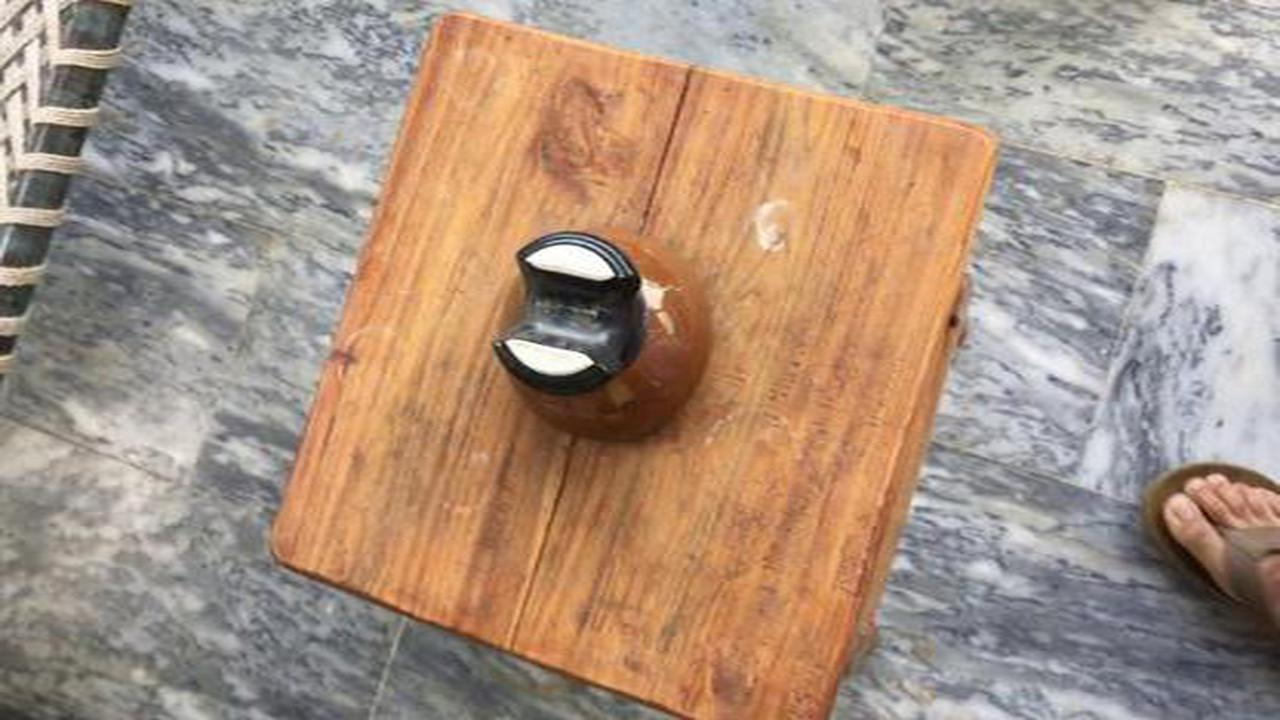insulator_pin: (468, 226, 739, 459)
